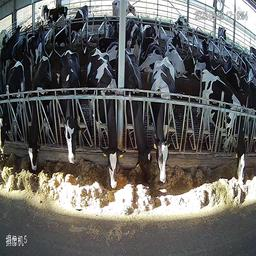cow: (107, 43, 153, 185), (198, 68, 247, 184), (86, 45, 125, 189), (59, 49, 91, 182), (148, 57, 176, 186), (27, 57, 50, 173), (2, 62, 23, 167), (163, 30, 185, 76), (140, 37, 162, 78), (166, 11, 187, 53), (68, 3, 90, 42), (191, 39, 212, 79), (42, 2, 67, 30), (126, 17, 140, 66), (227, 50, 242, 94), (30, 21, 45, 55), (216, 25, 229, 58), (144, 22, 159, 42), (105, 20, 119, 41)
